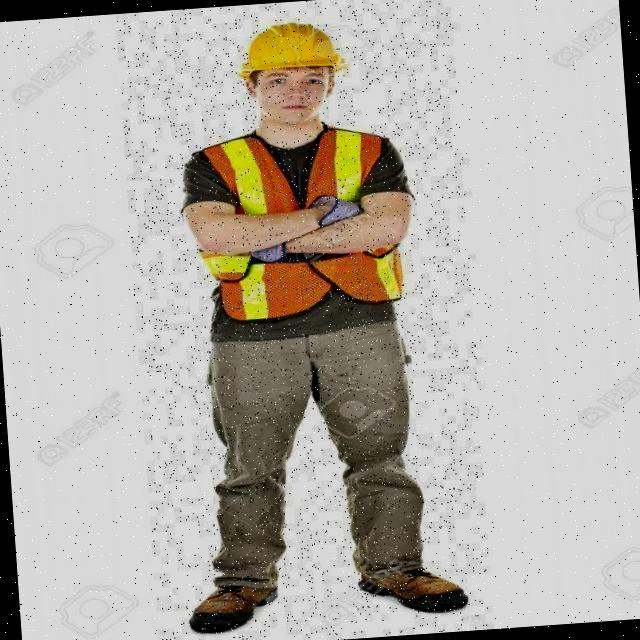vest: (192, 121, 406, 324)
